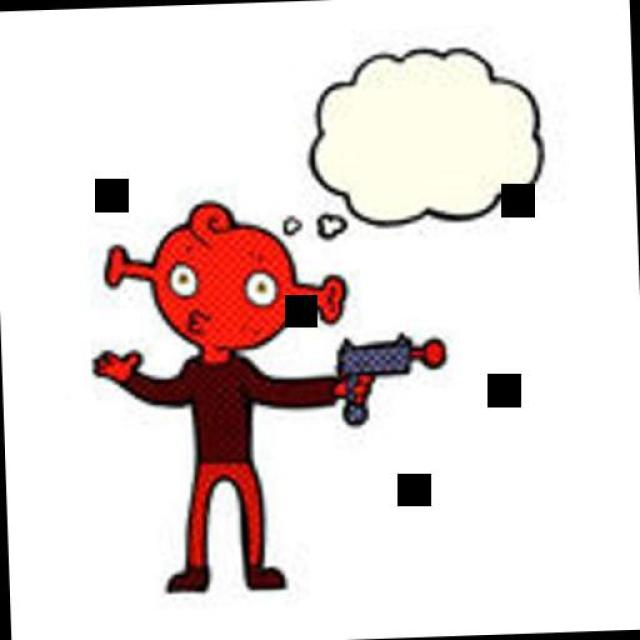gun: (335, 331, 424, 424)
